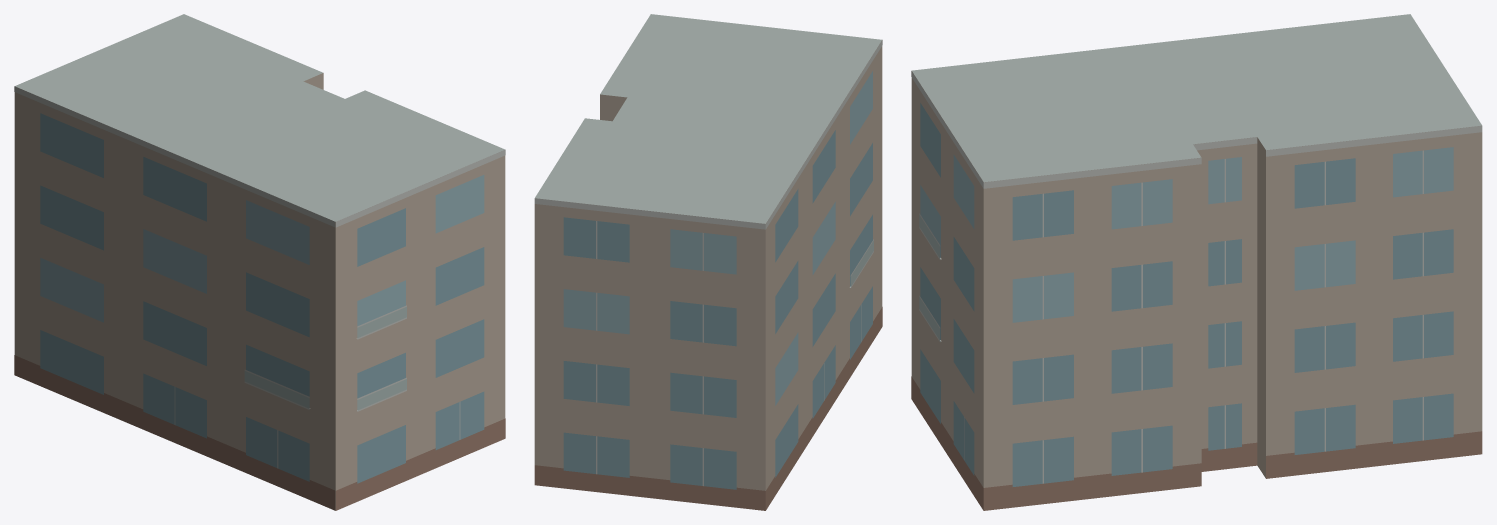
Rendered from survey-upis-32927138.glb.
The picture shows the model from 3 angles, left to right: view 1: azimuth 30°, elevation 25°; view 2: azimuth 150°, elevation 25°; view 3: azimuth 270°, elevation 25°; orthographic projection. The views are drawn at different scales.
Visible parts, largest first — view 1: survey-upis-32927138.tmp; view 2: survey-upis-32927138.tmp; view 3: survey-upis-32927138.tmp.
Part boxes in pixels (x1,y1,x2,y2): survey-upis-32927138.tmp: (14, 14, 505, 510); survey-upis-32927138.tmp: (534, 14, 882, 510); survey-upis-32927138.tmp: (911, 14, 1482, 510).
Size of the model in its own units: 13.41 by 12.2 by 19.21.
